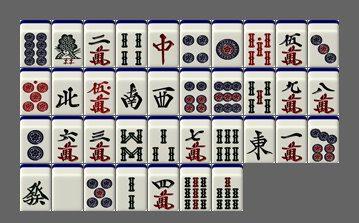0m: (84, 68, 115, 115)
0p: (20, 68, 51, 115)
0s: (244, 20, 275, 67)
1m: (276, 116, 307, 163)
1p: (212, 20, 243, 67)
1s: (52, 20, 83, 67)
1z: (244, 116, 275, 163)
2m: (84, 20, 115, 67)
2p: (20, 116, 51, 163)
2s: (116, 164, 147, 211)
2z: (116, 68, 147, 115)
3m: (84, 116, 115, 163)
3p: (308, 20, 339, 67)
3s: (148, 116, 179, 163)
3z: (148, 68, 179, 115)
4m: (148, 164, 179, 211)
4p: (180, 20, 211, 67)
4s: (116, 20, 147, 67)
4z: (52, 68, 83, 115)
5m: (276, 20, 307, 67)
5p: (84, 164, 115, 211)
5s: (244, 68, 275, 115)
5z: (52, 164, 83, 211)
6m: (52, 116, 83, 163)
6p: (180, 68, 211, 115)
6s: (212, 116, 243, 163)
6z: (20, 164, 51, 211)
7m: (180, 116, 211, 163)
7p: (308, 116, 339, 163)
7s: (212, 164, 243, 211)
7z: (148, 20, 179, 67)
8m: (308, 68, 339, 115)
8p: (20, 20, 51, 67)
8s: (116, 116, 147, 163)
9m: (276, 68, 307, 115)
9p: (212, 68, 243, 115)
9s: (180, 164, 211, 211)
